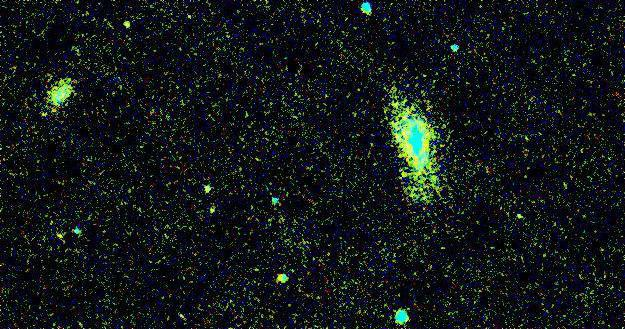star: (117, 12, 147, 42)
